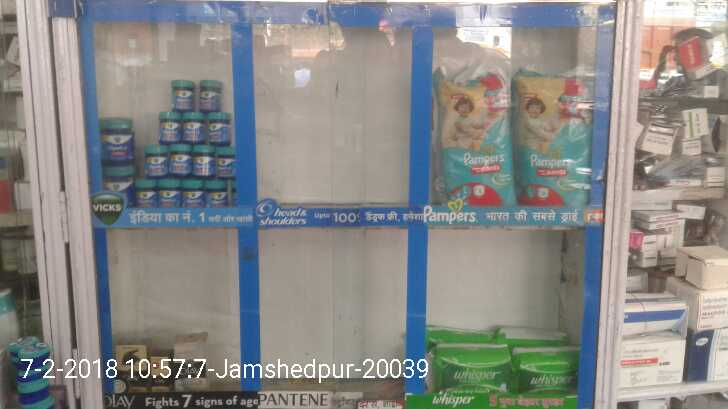beauty: (172, 340, 212, 394), (111, 342, 146, 398), (141, 358, 172, 394)
pharmacy: (514, 74, 590, 208), (431, 74, 508, 204), (510, 347, 578, 393), (435, 349, 510, 388), (100, 117, 140, 163), (202, 109, 232, 148), (178, 108, 204, 147), (169, 78, 198, 110), (195, 79, 221, 113), (155, 179, 183, 210), (212, 142, 234, 180), (156, 111, 181, 144), (168, 147, 191, 178), (190, 145, 212, 177), (204, 183, 228, 207), (146, 147, 167, 174), (133, 181, 154, 205), (183, 181, 200, 209)
